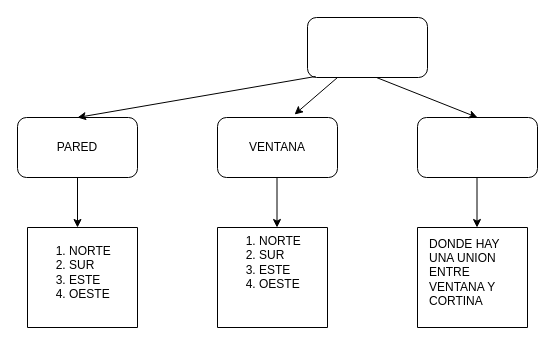
This 555x345 diagram has some shape labels left out. Each missing label, with the box of its shape:
CASA: (306, 16, 428, 78)
CORTINA: (416, 116, 538, 178)
